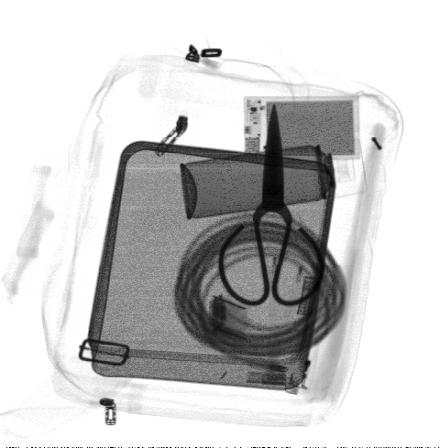Lighter: (284, 330, 327, 394)
Powerbank: (241, 93, 362, 160)
Scissors: (218, 102, 327, 309)
Sprayer: (179, 138, 371, 222)
